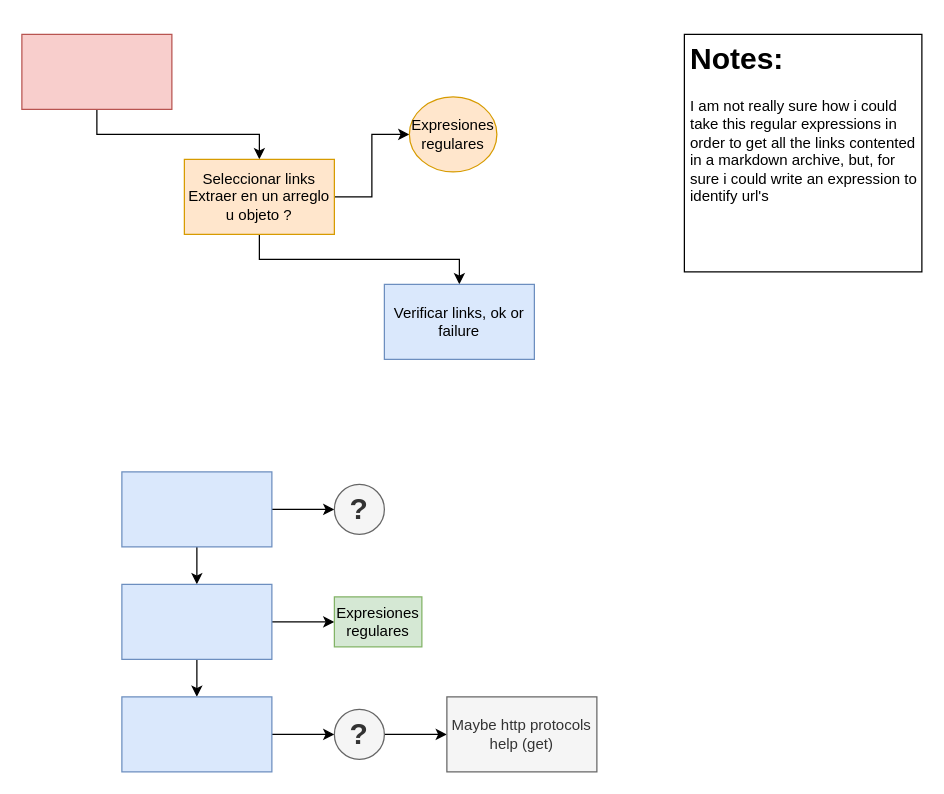
Image size: 944x794. Some labels were removed from this diagram. The box of each missing label's shape, as (x1, y1, x2, y2) in pixels:
Extraer links de un archivo markdown: (121, 471, 272, 547)
Readme con links: (21, 33, 172, 109)
Validar respuesta de esos links: (121, 696, 272, 772)
Validar si un link es un link: (121, 583, 272, 659)
